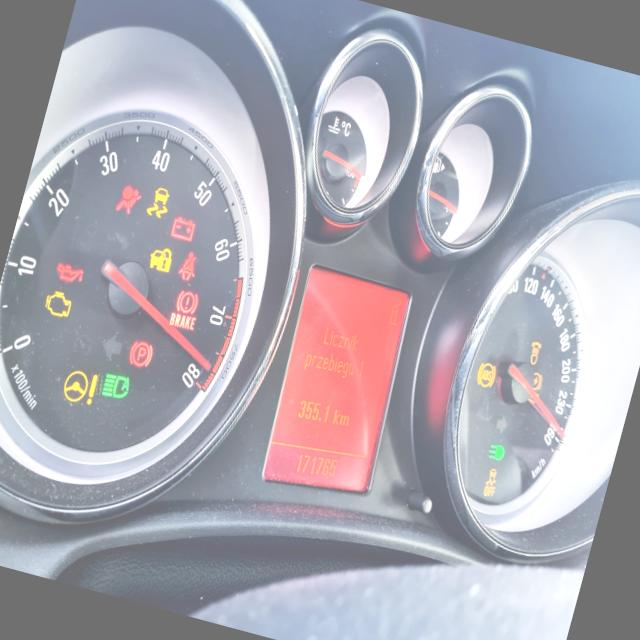kontrolka: (56, 356, 101, 411), (164, 284, 209, 336), (140, 174, 176, 230), (34, 282, 78, 322), (119, 331, 159, 374), (109, 174, 144, 218), (97, 367, 134, 406), (166, 210, 203, 248), (48, 256, 88, 288), (478, 463, 502, 500), (472, 358, 499, 390), (484, 436, 509, 464)
